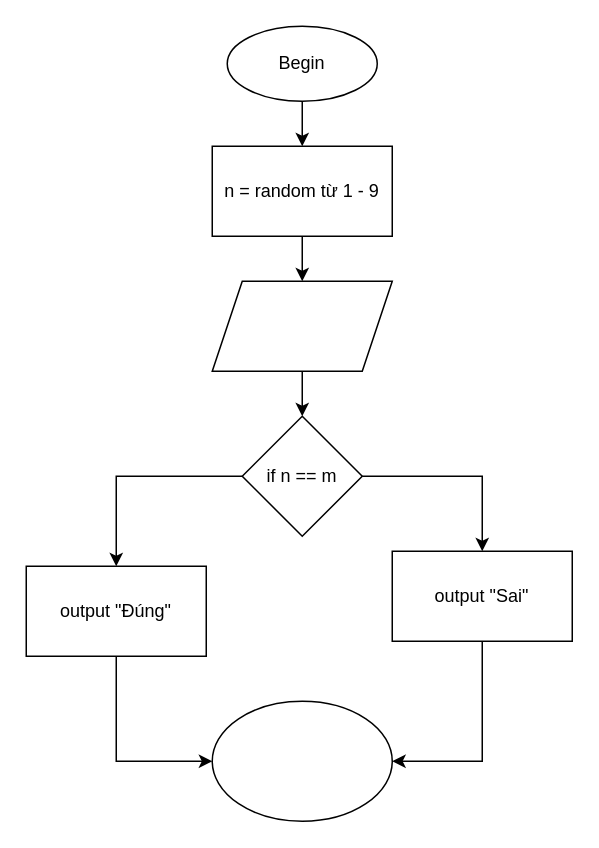
Image size: 599x848. Some labels were removed from this diagram. The box of each missing label's shape, as (x1, y1, x2, y2) in pixels:
End: (211, 700, 392, 821)
input m: (211, 280, 392, 371)
